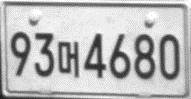0: (159, 34, 180, 79)
3: (32, 32, 54, 77)
4: (82, 32, 107, 79)
6: (108, 33, 131, 79)
8: (133, 34, 156, 79)
9: (10, 31, 31, 77)
머: (57, 41, 79, 78)
